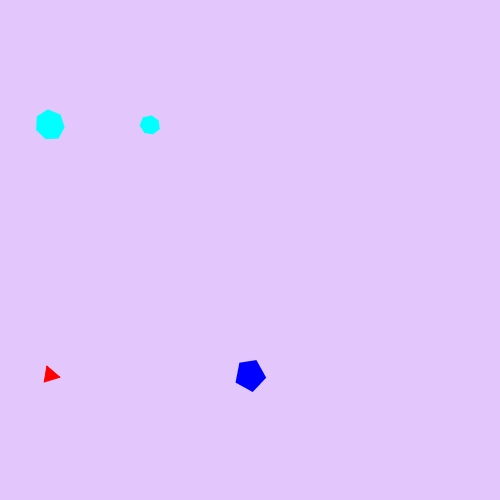heptagon: (31, 107, 69, 144), (136, 111, 165, 139)
pentagon: (231, 356, 270, 395)
triangle: (38, 362, 63, 388)
